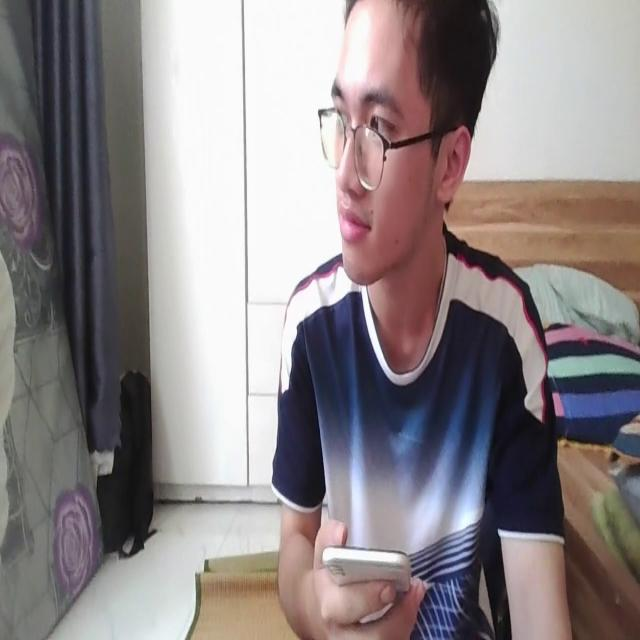phone: (317, 536, 421, 610)
student: (269, 0, 579, 640)
